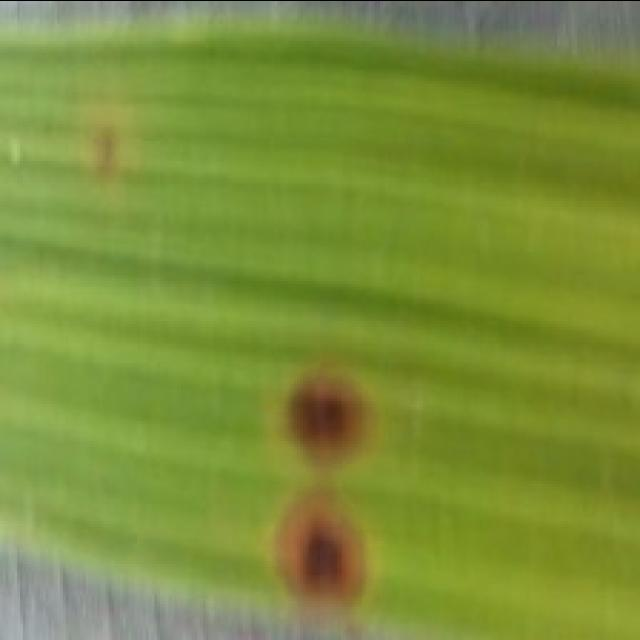Unhealthy: (266, 488, 381, 608), (281, 369, 380, 468), (86, 106, 121, 183)
